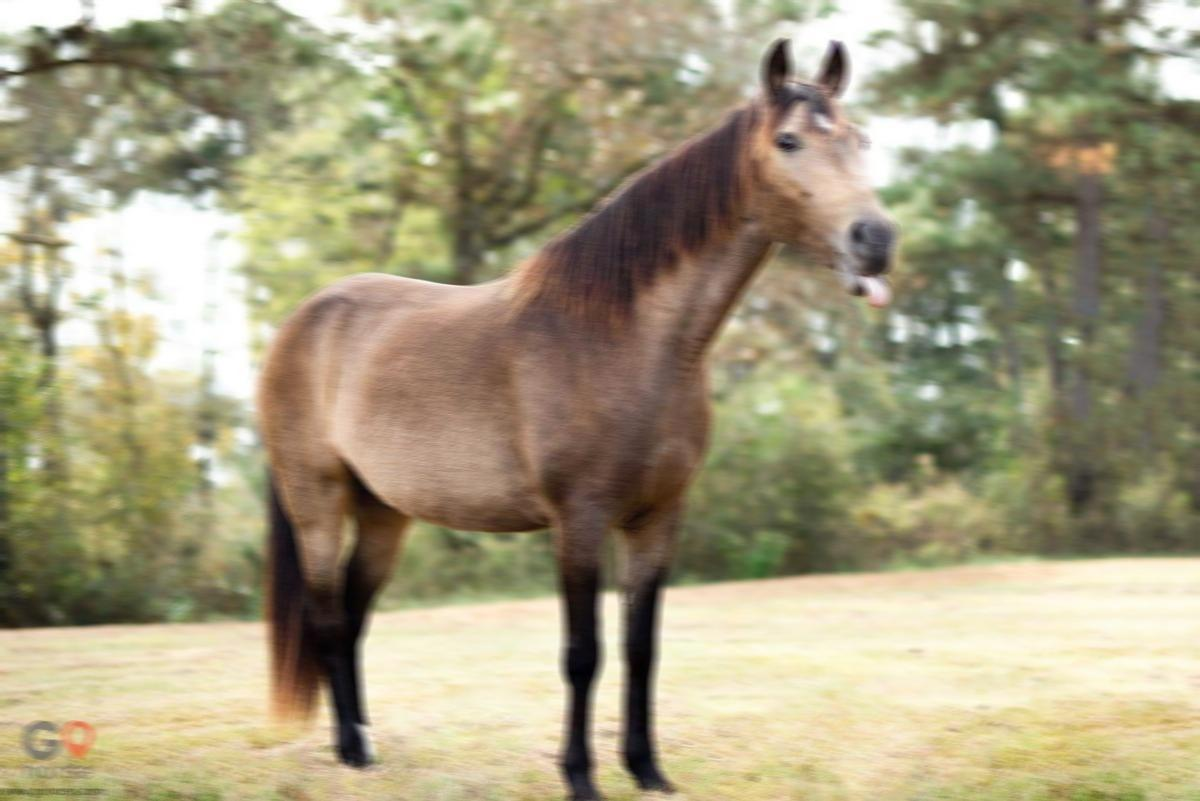horse: (240, 32, 904, 801)
